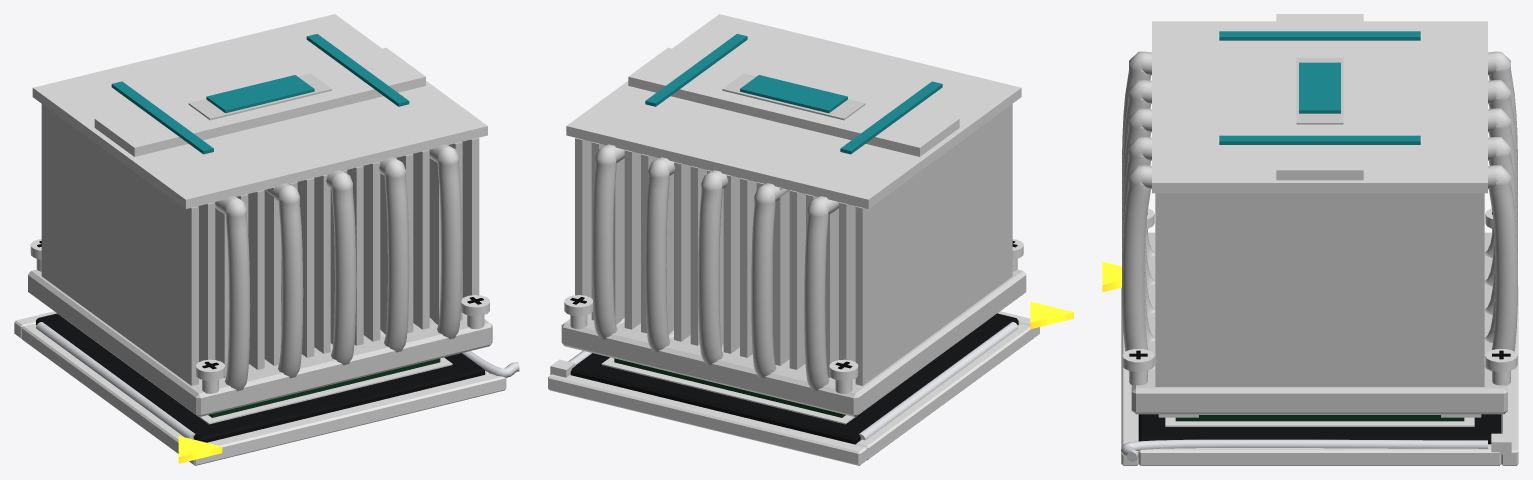
The model's file is hwm_cpu_xeon_6780e.glb.
3 views of the same model, side by side, from view 1: azimuth 30°, elevation 25°; view 2: azimuth 150°, elevation 25°; view 3: azimuth 270°, elevation 25° (orthographic). The views are drawn at different scales.
Parts seen in each view (by area): view 1: Cooler, Socket, CPU, Screw_3, Screw_1, Lever; view 2: Cooler, Socket, CPU, Screw_0, Screw_2; view 3: Cooler, Socket, Lever, CPU, Screw_2, Screw_3, Frame.
Part boxes in pixels (box(x1,y1,x2,y2)): Cooler: box(28, 14, 492, 416); Socket: box(14, 311, 506, 465); CPU: box(208, 358, 440, 417); Screw_3: box(461, 295, 489, 329); Screw_1: box(196, 359, 224, 393); Lever: box(462, 351, 519, 377); Cooler: box(561, 14, 1026, 416); Socket: box(548, 301, 1073, 465); CPU: box(614, 358, 845, 417); Screw_0: box(829, 359, 858, 393); Screw_2: box(564, 295, 593, 329); Cooler: box(1122, 14, 1517, 414); Socket: box(1102, 261, 1518, 465); Lever: box(1121, 439, 1487, 461); CPU: box(1175, 415, 1464, 421); Screw_2: box(1485, 349, 1517, 385); Screw_3: box(1122, 349, 1154, 385); Frame: box(1158, 414, 1481, 417).
Size of the model in its own units: 0.1338 by 0.0974 by 0.1239.
